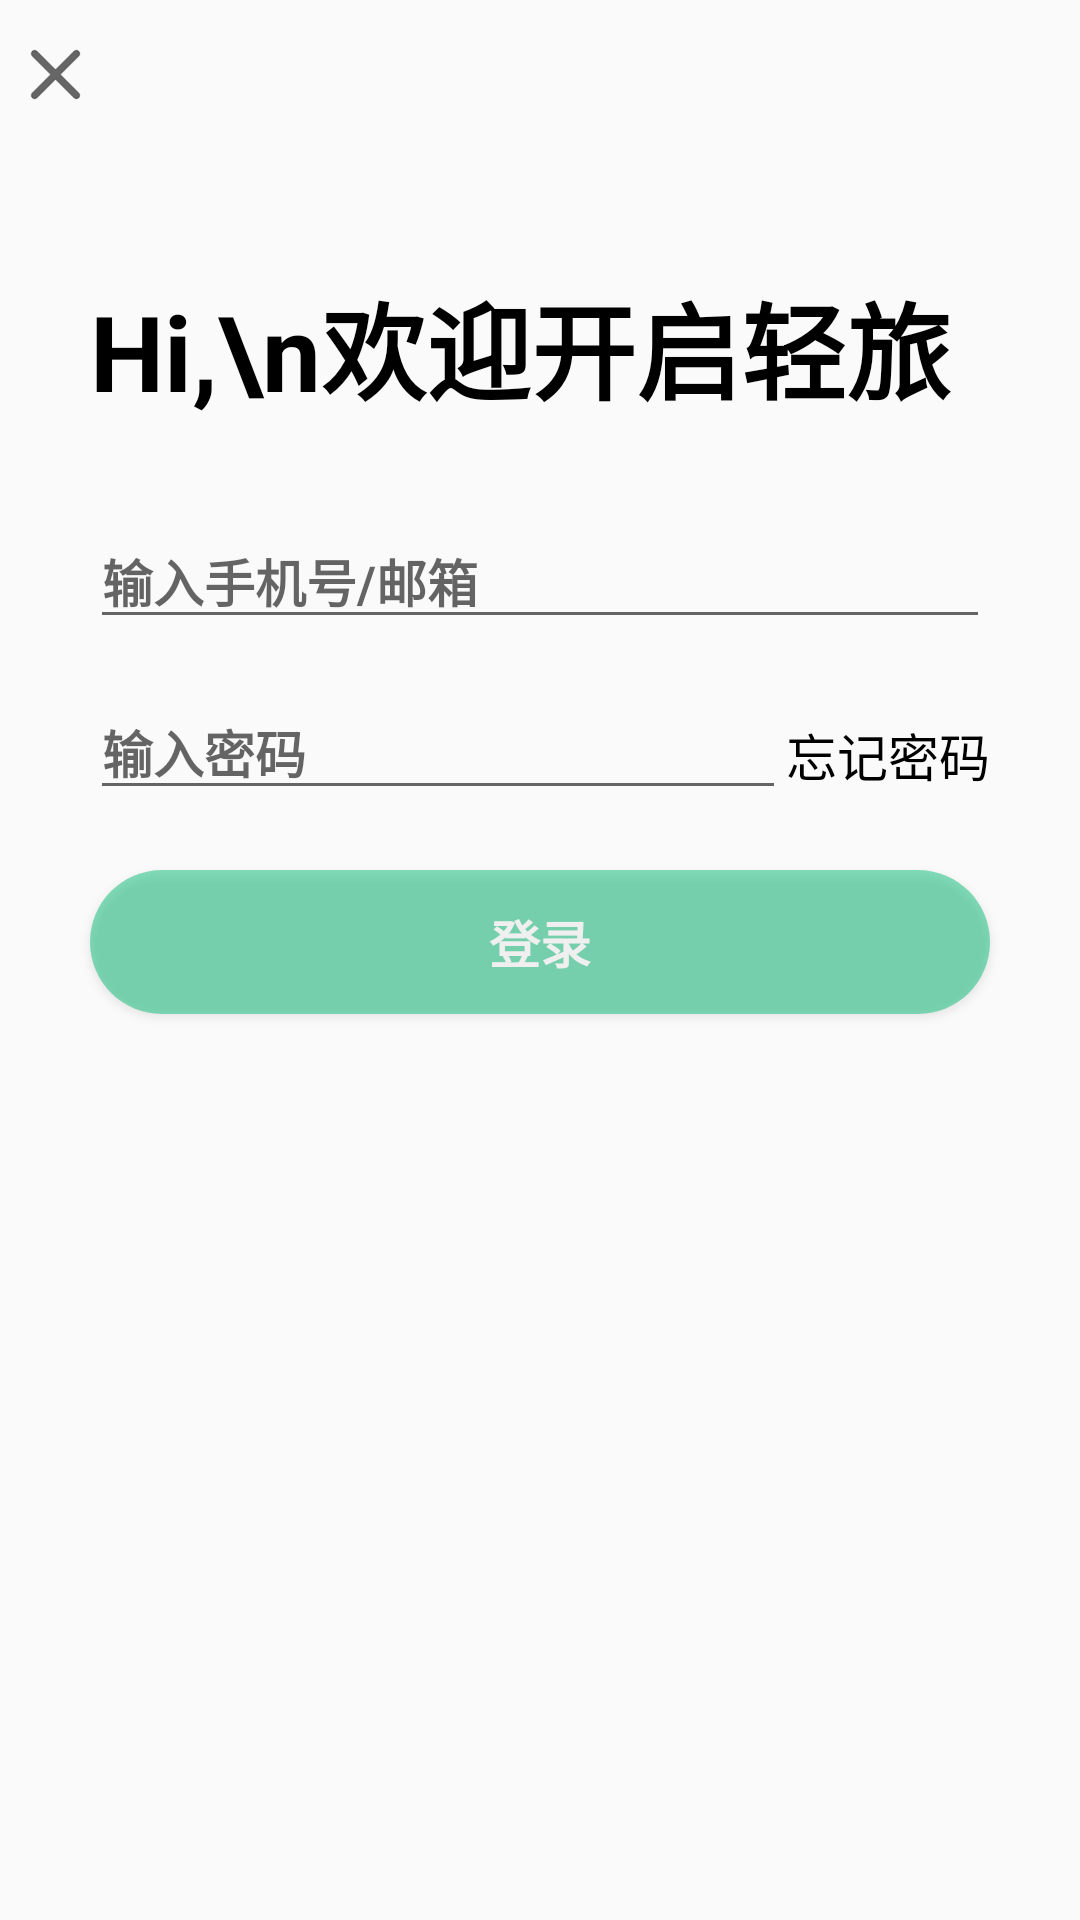

Icon bounding boxes for this 1080×1920 phone screenshot, format [left=x1, top=y1, right=x2, bottom=y2]:
exit: [left=31, top=50, right=80, bottom=99]
